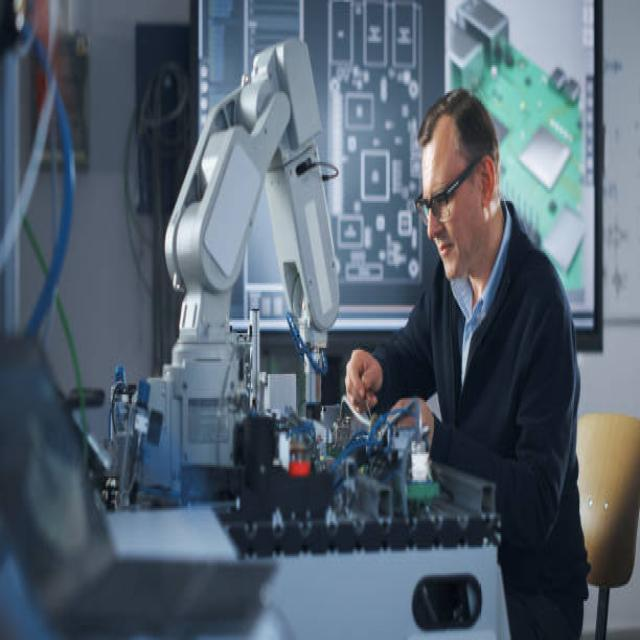Robotic-arm: (160, 28, 346, 466)
